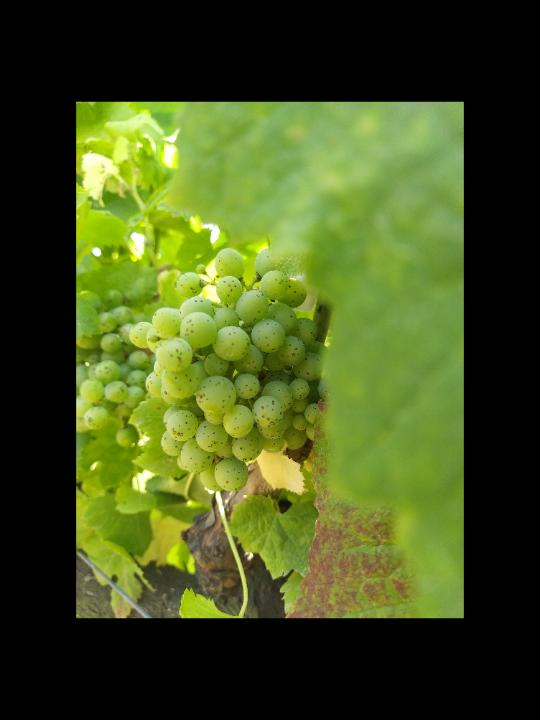grape: (128, 246, 331, 491)
